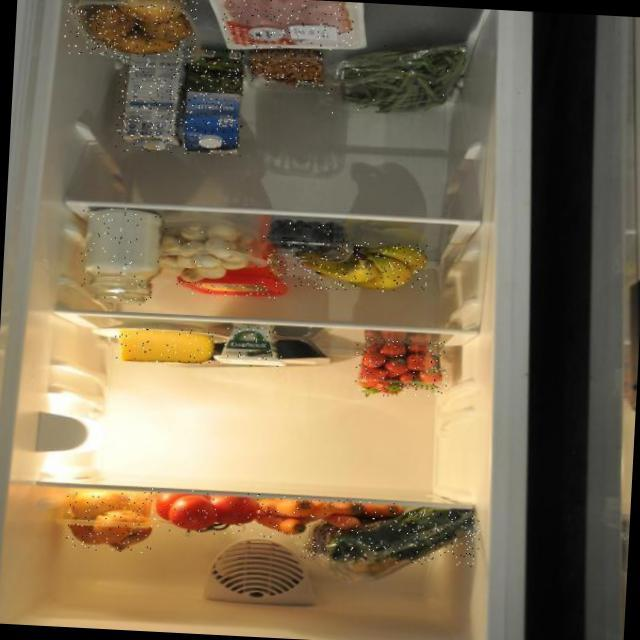Carne cerdo: (220, 0, 355, 47)
Cebolla: (64, 486, 153, 552)
Champiñones: (139, 221, 267, 285)
Gambas/Langostinos: (250, 44, 325, 88)
Mantequilla: (172, 238, 290, 298)
Patata: (63, 0, 197, 60)
Plátano: (290, 237, 428, 293)
Queso: (113, 326, 215, 366), (213, 324, 283, 368)
Zanahoria: (252, 494, 401, 544)
blueberries: (262, 218, 345, 256)
green_beans: (323, 33, 467, 121)
milk: (114, 40, 188, 154), (177, 44, 247, 156)
spinach: (300, 501, 480, 566)
strawberries: (353, 336, 449, 399)
sugar: (77, 204, 164, 305)
tomato paste: (150, 487, 259, 537)
